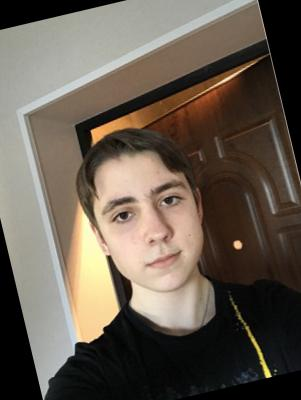without_mask: (91, 173, 215, 306)
